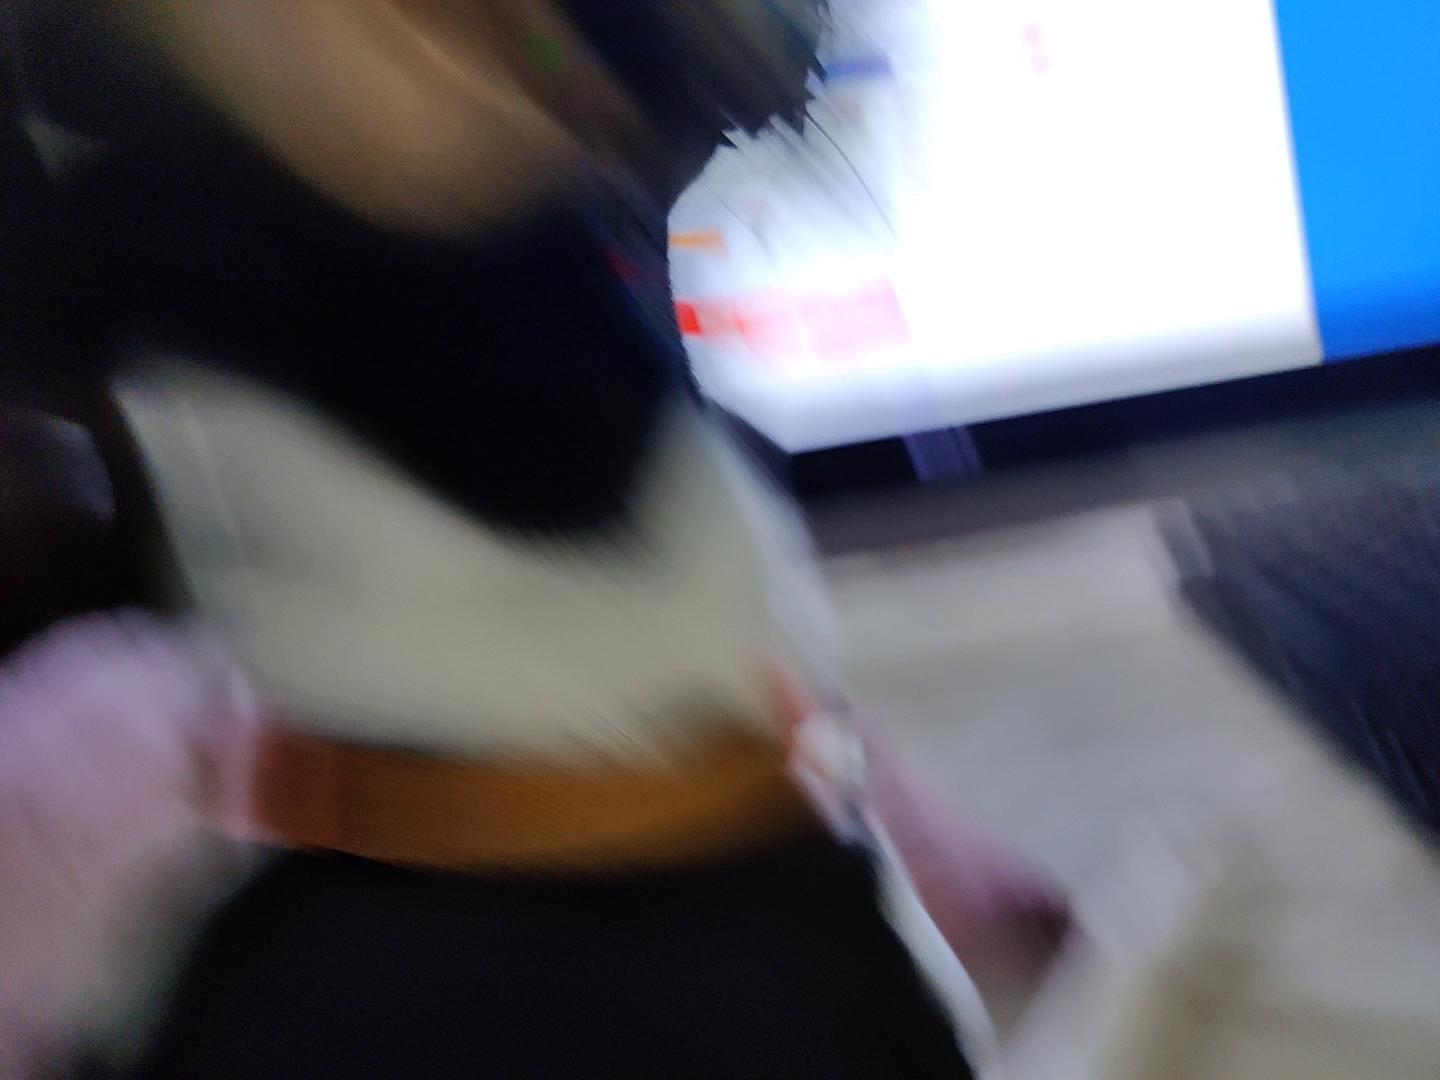Dog: (5, 0, 1247, 1079)
